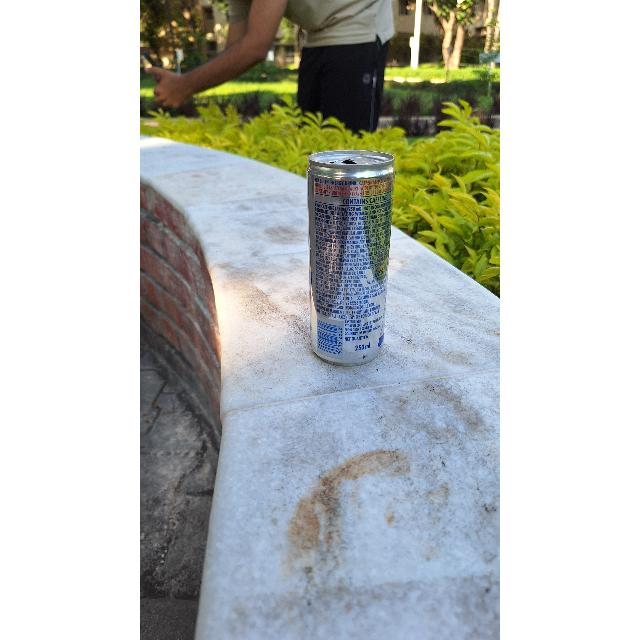Redbull: (310, 150, 390, 362)
